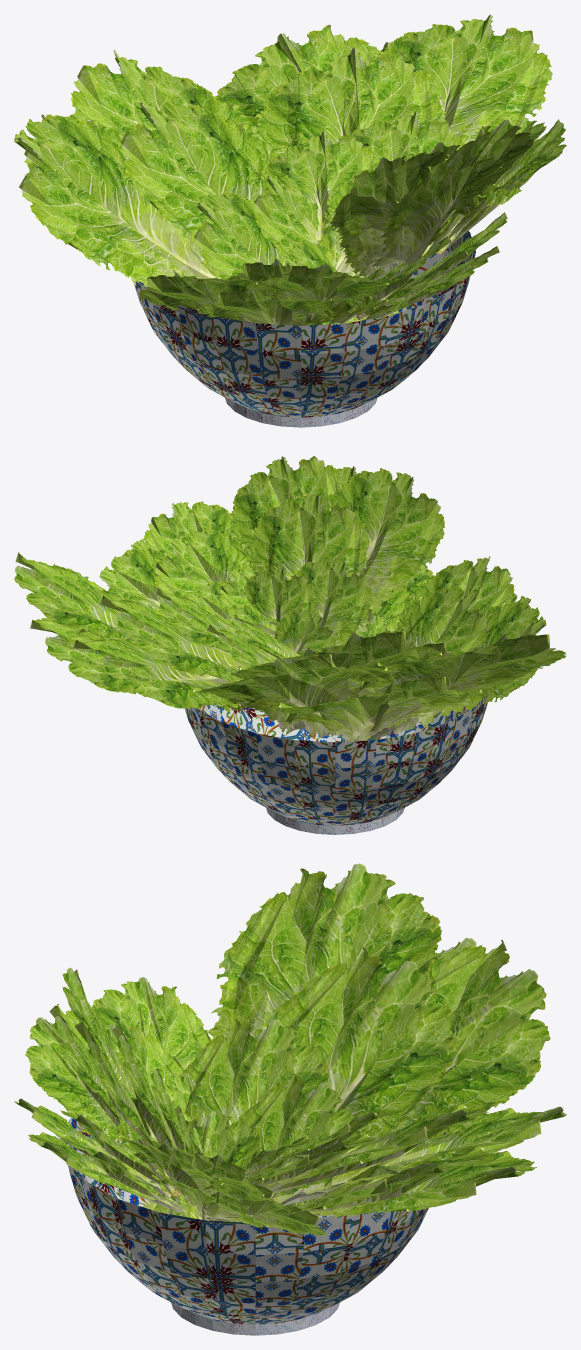
The model's file is lechuga.glb.
3 renders of one model, top to bottom at view 1: azimuth 30°, elevation 25°; view 2: azimuth 150°, elevation 25°; view 3: azimuth 270°, elevation 25°, orthographic. The views are drawn at different scales.
Visible parts, largest first — view 1: instance_0.001, group_6.012, group_5.012, group_6.015, group_5.015, group_7.012, group_4, group_6, group_7.015, group_9.015, group_8.012, group_7.006 (+15 smaller); view 2: instance_0.001, group_6, group_5, group_6.012, group_7.012, group_4.012, group_7.015, group_6.015, group_7, group_5.015, group_5.003, group_5.006 (+19 smaller); view 3: instance_0.001, group_6.012, group_5.012, group_7.012, group_8.012, group_9.012, group_7.015, group_6.006, group_4.015, group_5.015, group_7.006, group_6.015 (+20 smaller).
Boxes of the visible parts, x1,y1,x2,y2 form: instance_0.001: (134, 231, 475, 417); group_6.012: (14, 114, 221, 286); group_5.012: (120, 100, 277, 242); group_6.015: (369, 14, 552, 143); group_5.015: (255, 47, 445, 155); group_7.012: (70, 50, 257, 160); group_4: (372, 153, 503, 279); group_6: (330, 150, 449, 279); group_7.015: (216, 24, 380, 128); group_9.015: (260, 131, 379, 244); group_8.012: (194, 191, 287, 279); group_7.006: (249, 264, 388, 320); instance_0.001: (185, 693, 488, 825); group_6: (325, 468, 444, 632); group_5: (244, 494, 368, 614); group_6.012: (348, 633, 566, 737); group_7.012: (193, 654, 400, 716); group_4.012: (271, 677, 483, 741); group_7.015: (67, 630, 240, 711); group_6.015: (14, 552, 140, 644); group_7: (228, 456, 344, 563); group_5.015: (99, 595, 247, 682); group_5.003: (154, 529, 250, 617); group_5.006: (397, 587, 487, 655); instance_0.001: (66, 1117, 446, 1324); group_6.012: (206, 863, 441, 1038); group_5.012: (257, 947, 458, 1136); group_7.012: (388, 940, 550, 1138); group_8.012: (142, 1019, 329, 1211); group_9.012: (238, 1074, 357, 1206); group_7.015: (272, 1106, 566, 1205); group_6.006: (92, 977, 211, 1068); group_4.015: (300, 1151, 536, 1218); group_5.015: (261, 1104, 488, 1193); group_7.006: (25, 1004, 118, 1140); group_6.015: (281, 1145, 490, 1215).
Size of the model in its own units: 2.79 by 1.45 by 2.17.
Materials: 4 (2 with a texture image).
